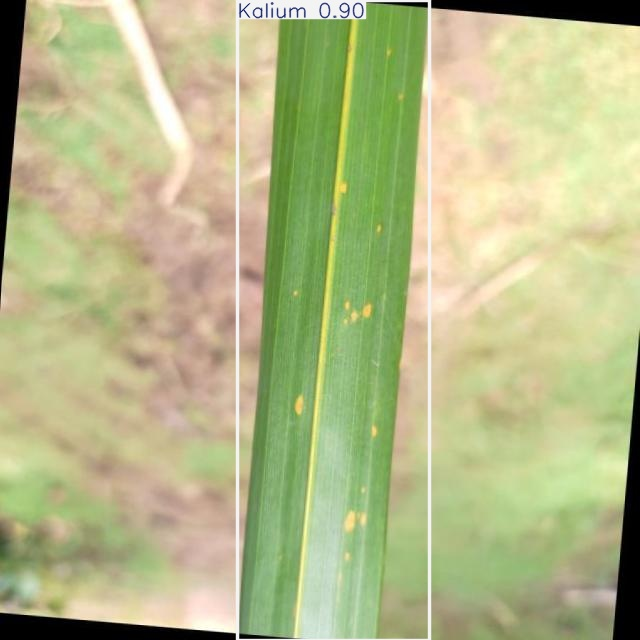Kalium: (237, 0, 429, 640)
